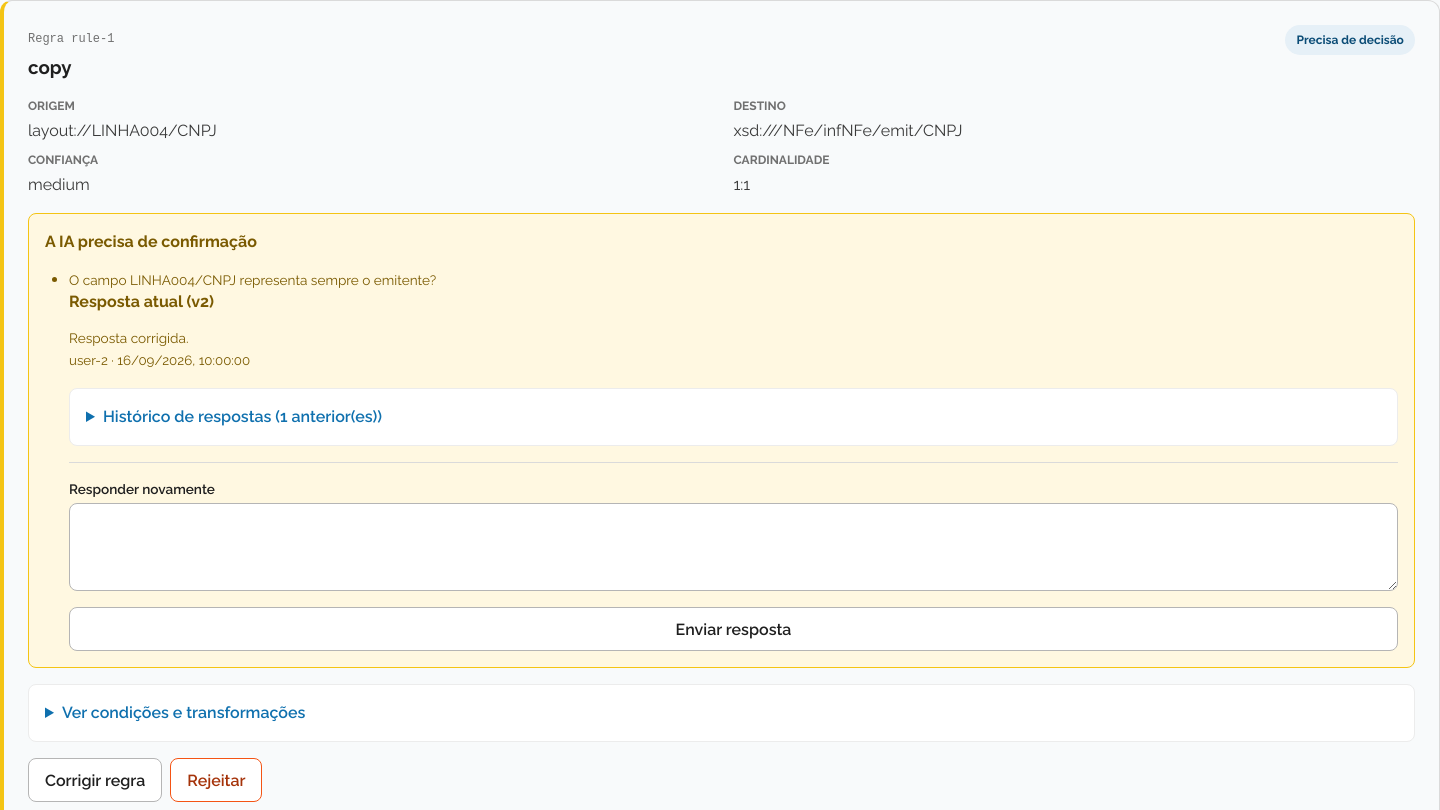
Test: MappingRuleReviewCard — perguntas abertas (gap a2) › exibe o histórico de respostas anteriores quando a API já retorna versões
The image size is (1440, 810).
Expected: the text "Resposta atual (v2)" is shown, [69, 292, 214, 311]
Expected: the text "Resposta corrigida." is shown, [69, 330, 188, 346]
What coordinates should you click on to do the following:
click the heading "Histórico de respostas (1 anterior(es))"
I would click on:
 (242, 416)
Its box is [103, 407, 382, 426].
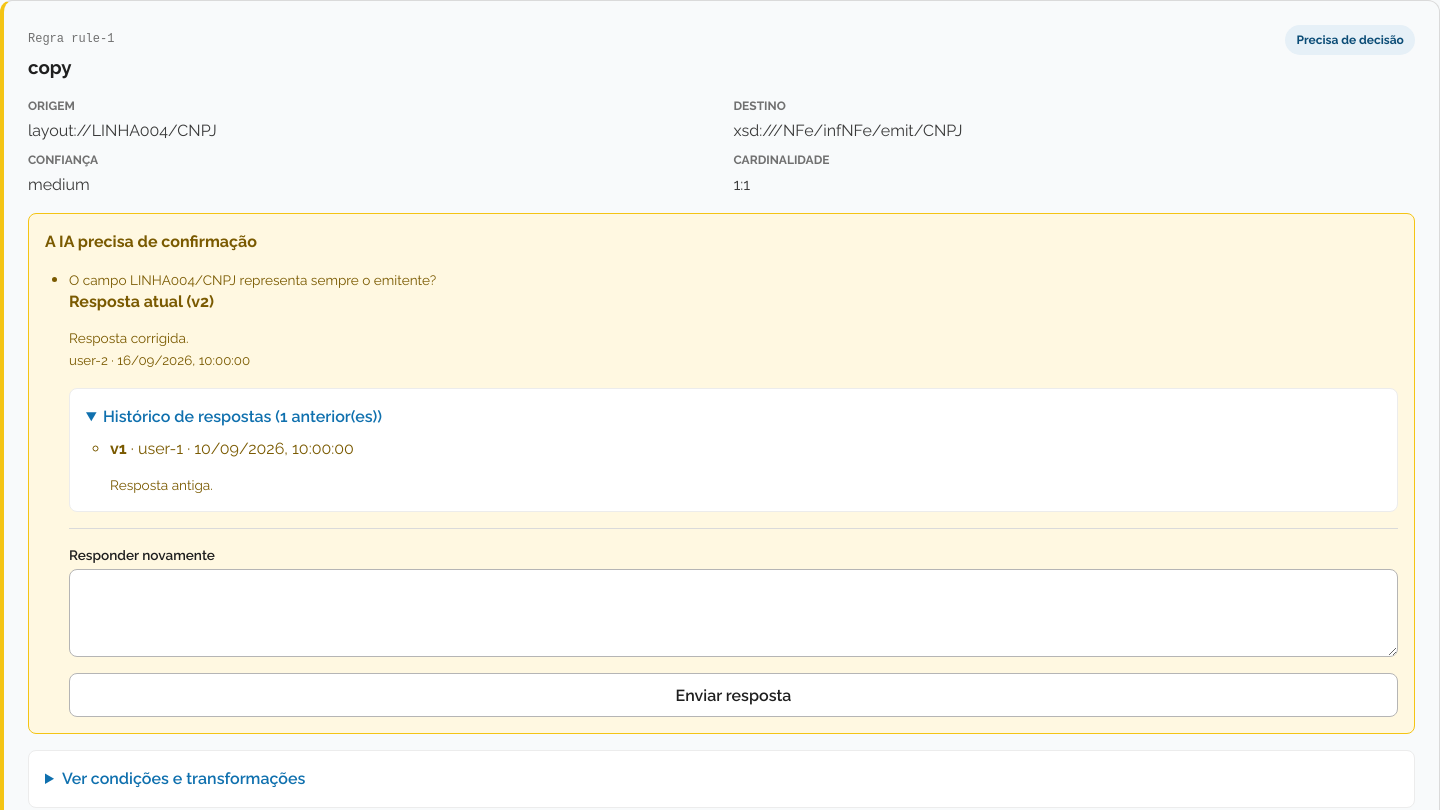
Expected: the text "Resposta antiga." is shown, [110, 477, 213, 493]
